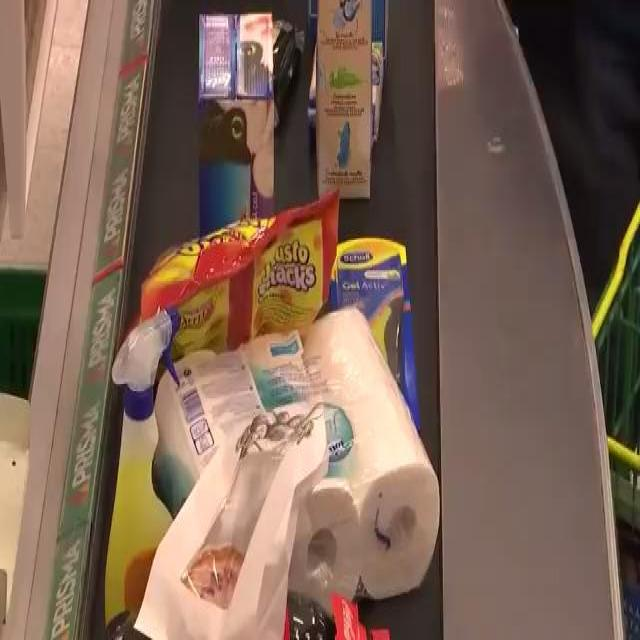beverage: (317, 1, 373, 202)
food-box: (143, 398, 324, 631), (134, 225, 338, 353)
utility-box: (168, 349, 422, 583), (194, 15, 285, 230), (115, 318, 173, 640), (336, 226, 422, 420)
